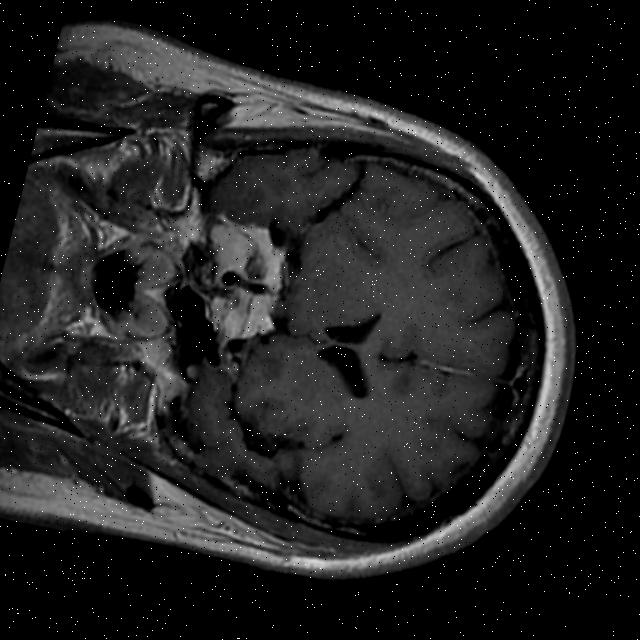Meningioma: (183, 205, 300, 357)
